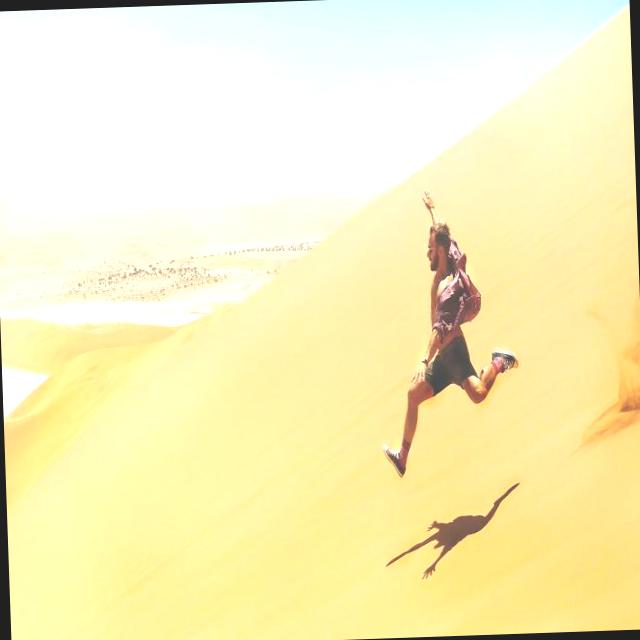person: (372, 186, 522, 477)
